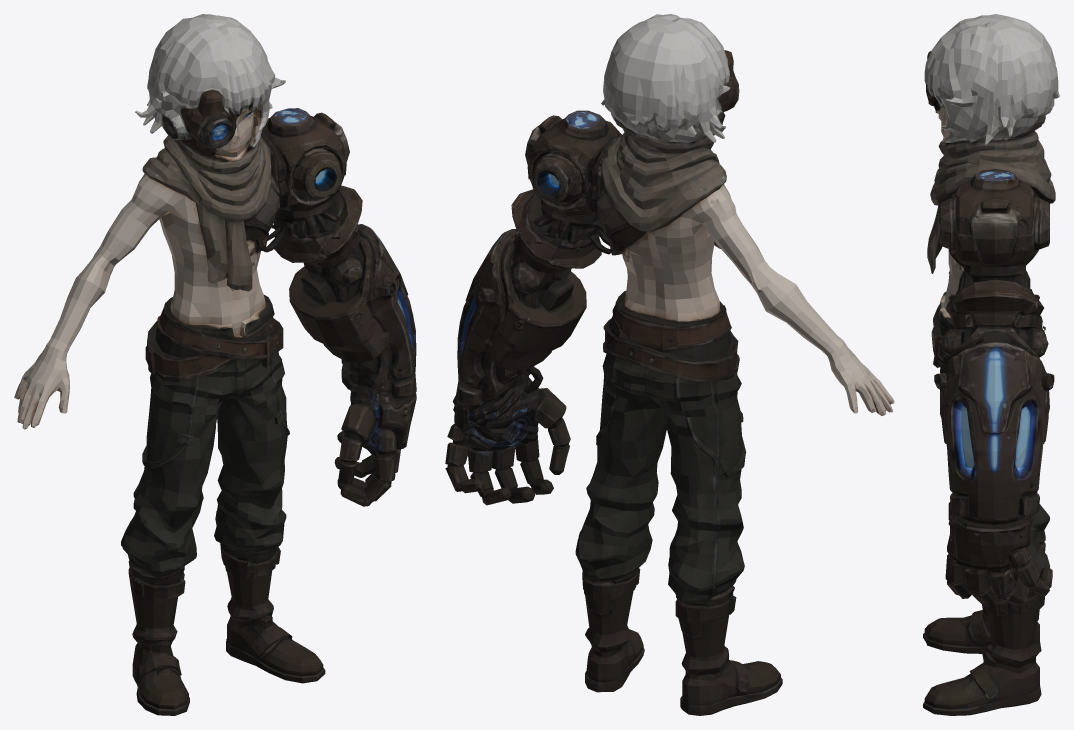
The model's file is cybernetic+arm+character+3d+model (1).fbx.
3 renders of one model, left to right at view 1: azimuth 30°, elevation 25°; view 2: azimuth 150°, elevation 25°; view 3: azimuth 270°, elevation 25°, orthographic.
Visible parts, largest first — view 1: tripo_node_8d518bce; view 2: tripo_node_8d518bce; view 3: tripo_node_8d518bce.
Part boxes in pixels (bbox=[...]): tripo_node_8d518bce: bbox=[14, 14, 416, 715]; tripo_node_8d518bce: bbox=[445, 14, 894, 715]; tripo_node_8d518bce: bbox=[923, 14, 1059, 715].
Bounding box in the file's own units: 65.17 × 18.98 × 100.
Materials: 1 (1 with a texture image).
